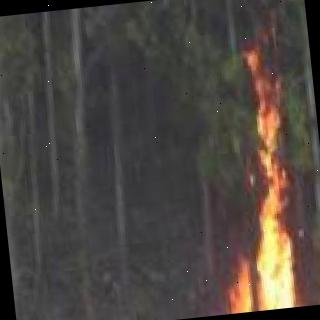fire: (163, 67, 320, 318)
